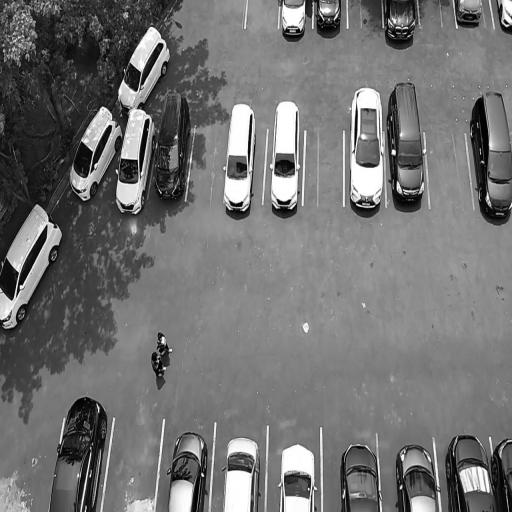Car: (0, 189, 69, 359), (47, 387, 114, 512), (61, 96, 127, 213), (462, 89, 512, 226), (110, 19, 174, 118), (346, 74, 386, 230), (108, 105, 160, 224), (386, 78, 428, 217), (266, 96, 303, 228), (153, 87, 192, 204), (222, 100, 259, 221), (444, 432, 496, 512), (166, 427, 208, 512), (220, 430, 263, 512), (392, 441, 440, 512), (276, 439, 318, 512), (338, 441, 381, 512), (488, 430, 512, 512), (383, 0, 418, 44), (278, 0, 308, 38), (314, 0, 344, 36), (454, 0, 484, 28), (495, 0, 512, 35)
Space Available: (101, 414, 164, 512), (425, 128, 475, 208), (185, 124, 229, 203), (303, 129, 345, 205), (418, 0, 458, 27), (244, 0, 281, 29), (348, 0, 383, 29)
